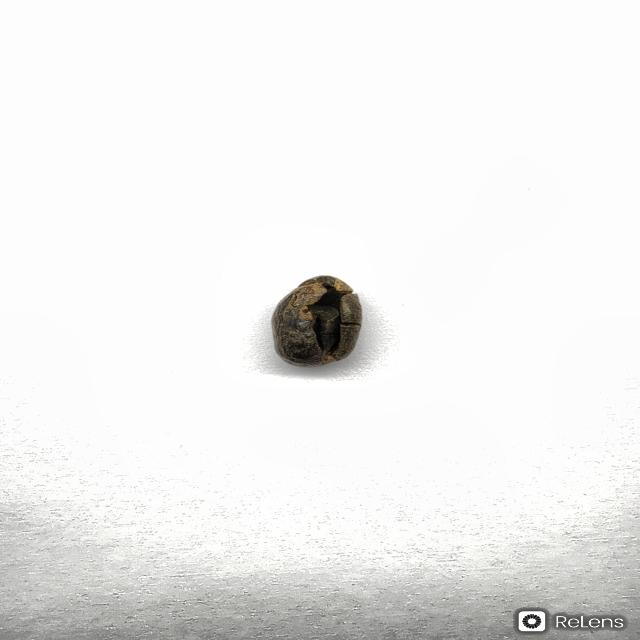Black: (269, 274, 363, 368)
